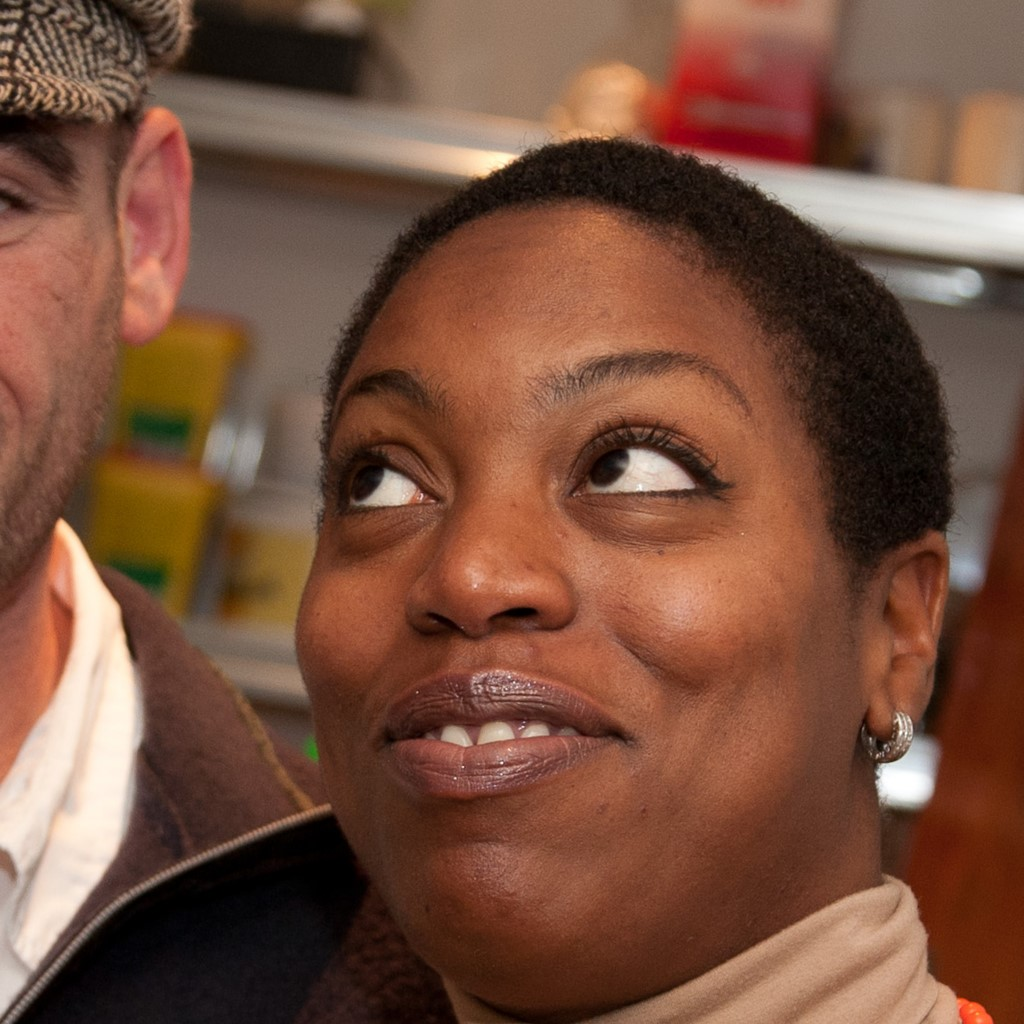sin_mascara: (297, 208, 907, 980)
